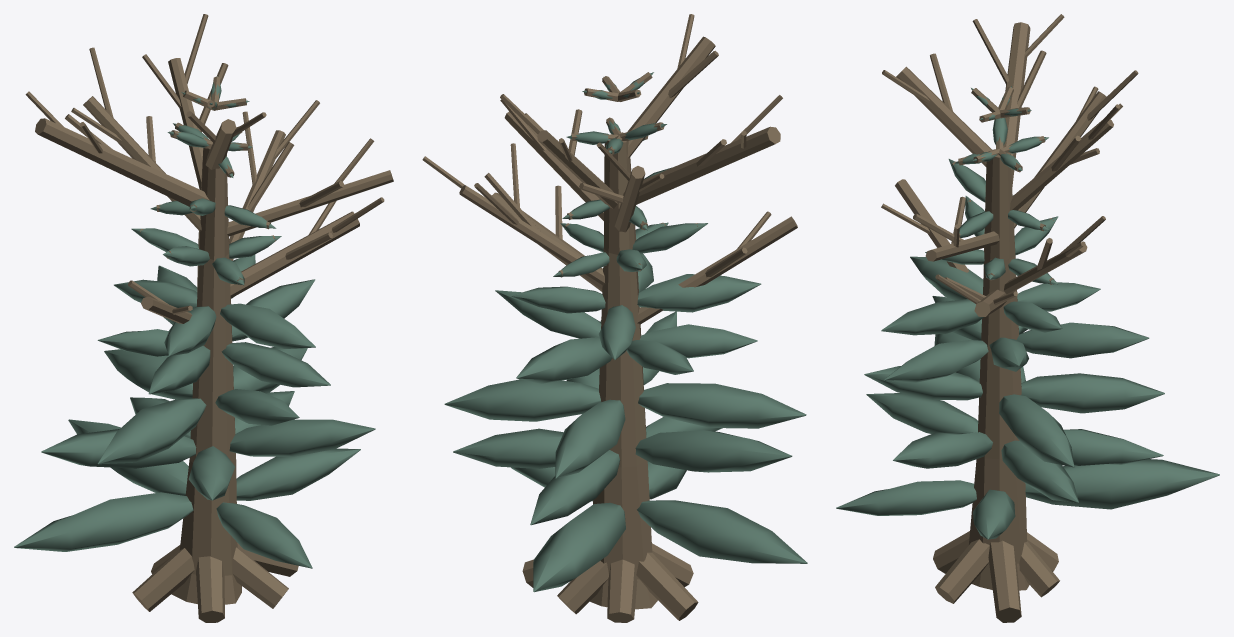
File: alpine_conifer.glb
The picture shows the model from 3 angles, left to right: view 1: azimuth 30°, elevation 25°; view 2: azimuth 150°, elevation 25°; view 3: azimuth 270°, elevation 25°; orthographic projection. The views are drawn at different scales.
Visible parts, largest first — view 1: alpine_conifer LOD0; view 2: alpine_conifer LOD0; view 3: alpine_conifer LOD0.
Boxes of the visible parts, box(x1,y1,x2,y2) form: alpine_conifer LOD0: box(14, 14, 393, 622); alpine_conifer LOD0: box(422, 14, 807, 622); alpine_conifer LOD0: box(836, 14, 1219, 622).
Size of what is drawn, in the model's own units: 4.86 by 7.25 by 4.93.
